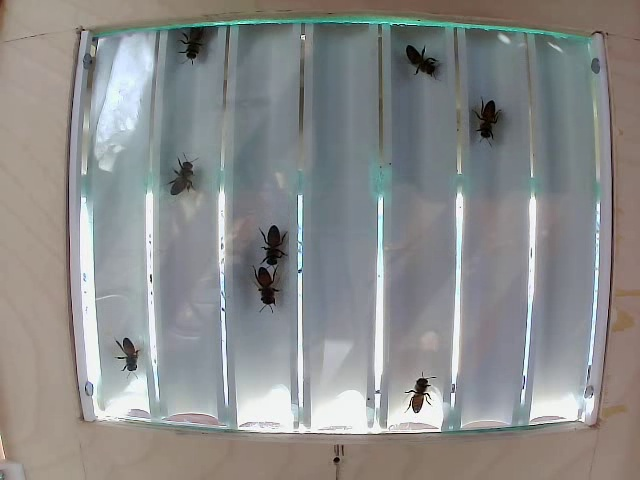bee: (158, 159, 207, 204), (252, 221, 298, 260), (409, 364, 448, 410), (246, 263, 292, 300), (477, 104, 512, 148), (117, 334, 150, 374), (411, 41, 447, 76), (174, 33, 214, 55)
